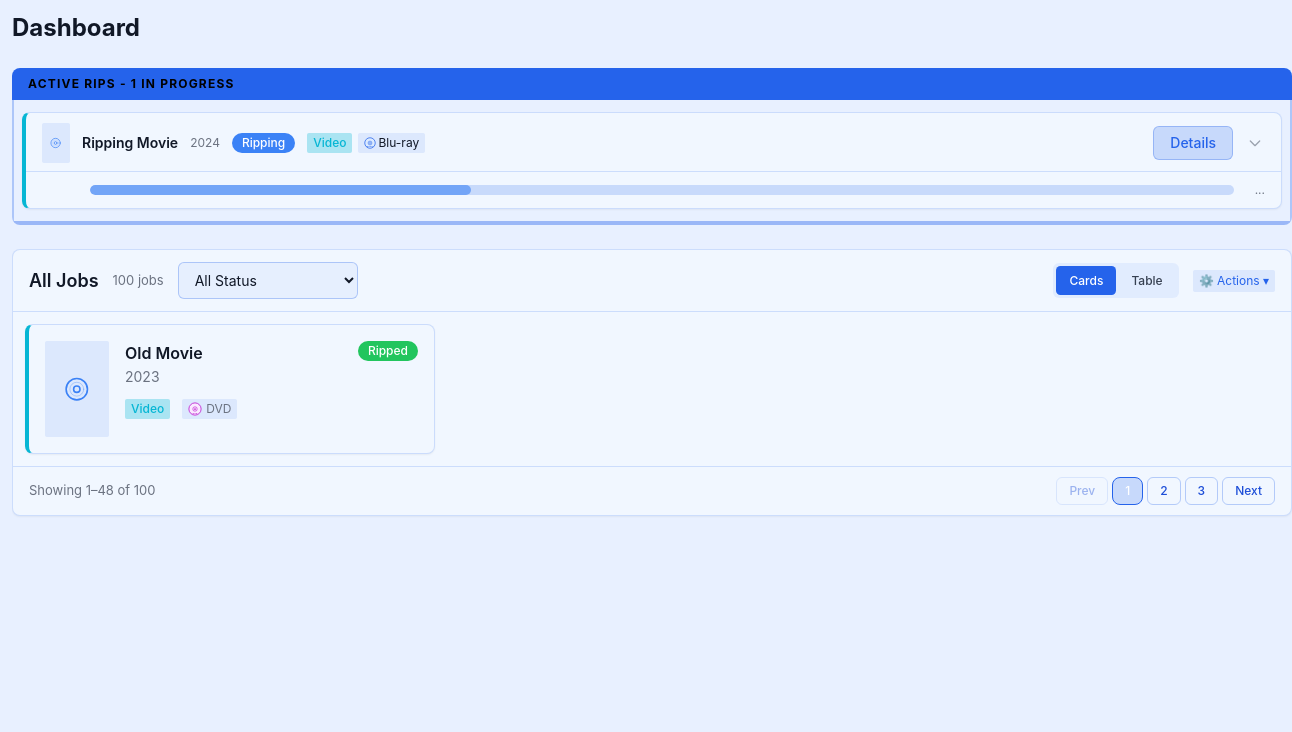
Dashboard Page › one jobs panel › drops a slower, older jobs response that lands after a newer page
The image size is (1292, 732).
Check: the heading "Dashboard" is shown, box [12,12,140,44]
Click the button "Table" at (1147,280), box [1118,266,1176,295]
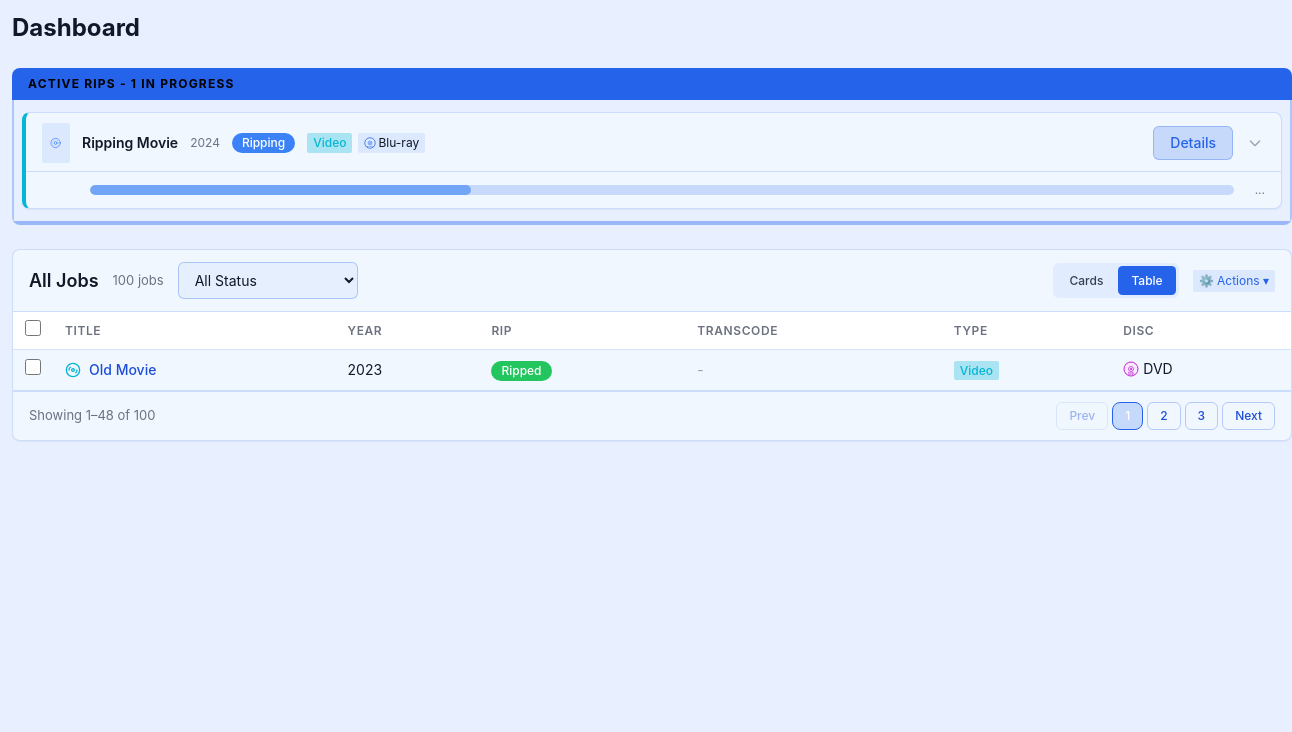
Check: the element with test id "jobs-pagination" shows "Showing 1–48 of 100", box [29,407,156,423]
Check: the column heading "Title" is shown, box [53,312,336,350]
Select "All Status" in the dropdown showing "All Status" at (268,280), box [178,262,358,299]
Click the button "2" at (1164,416), box [1147,402,1181,430]
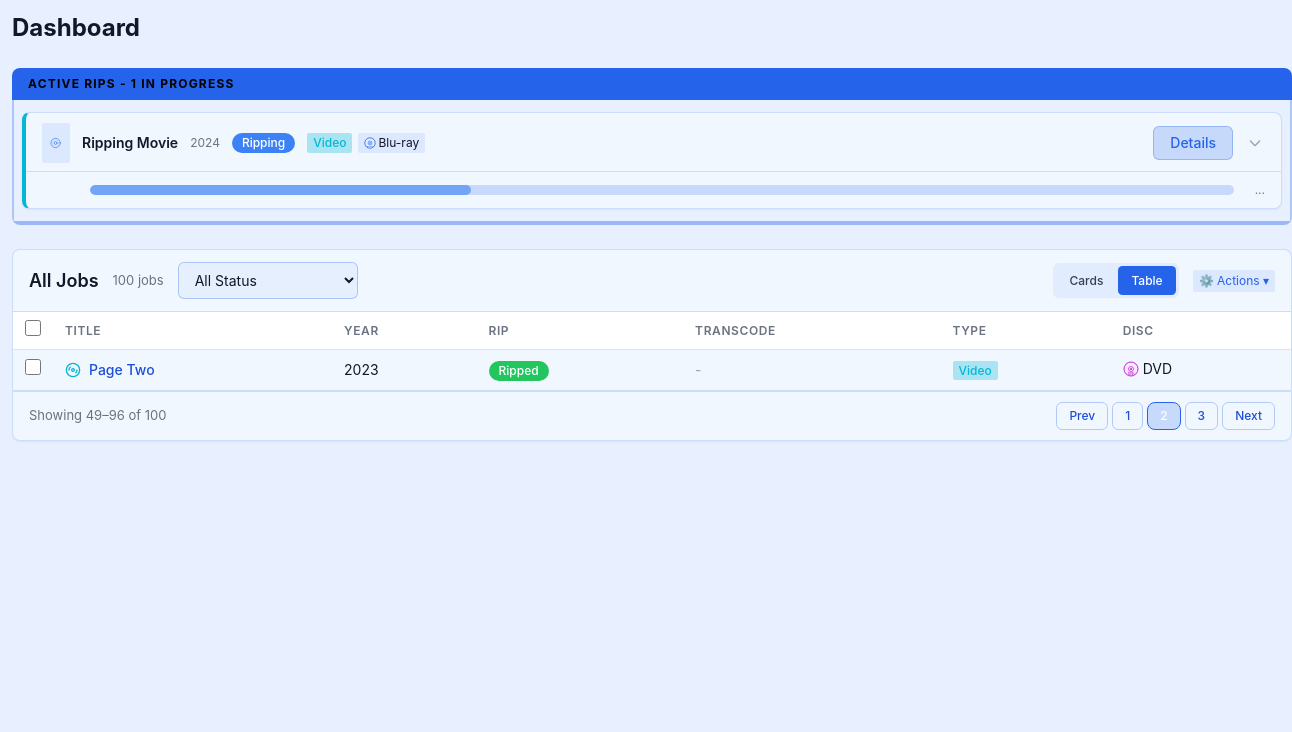
Check: the link "Page Two" is shown, box [89,361,155,378]
